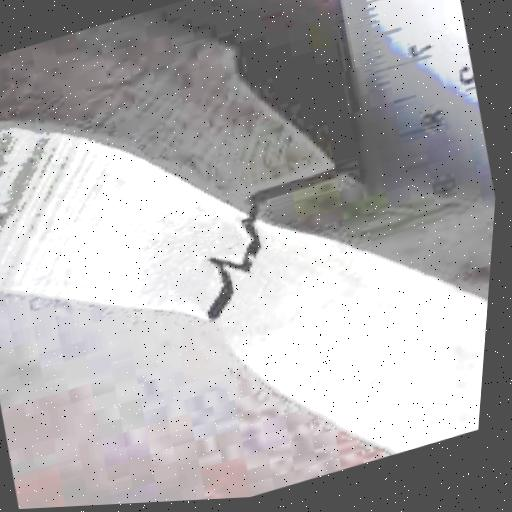crack: (169, 152, 377, 332)
